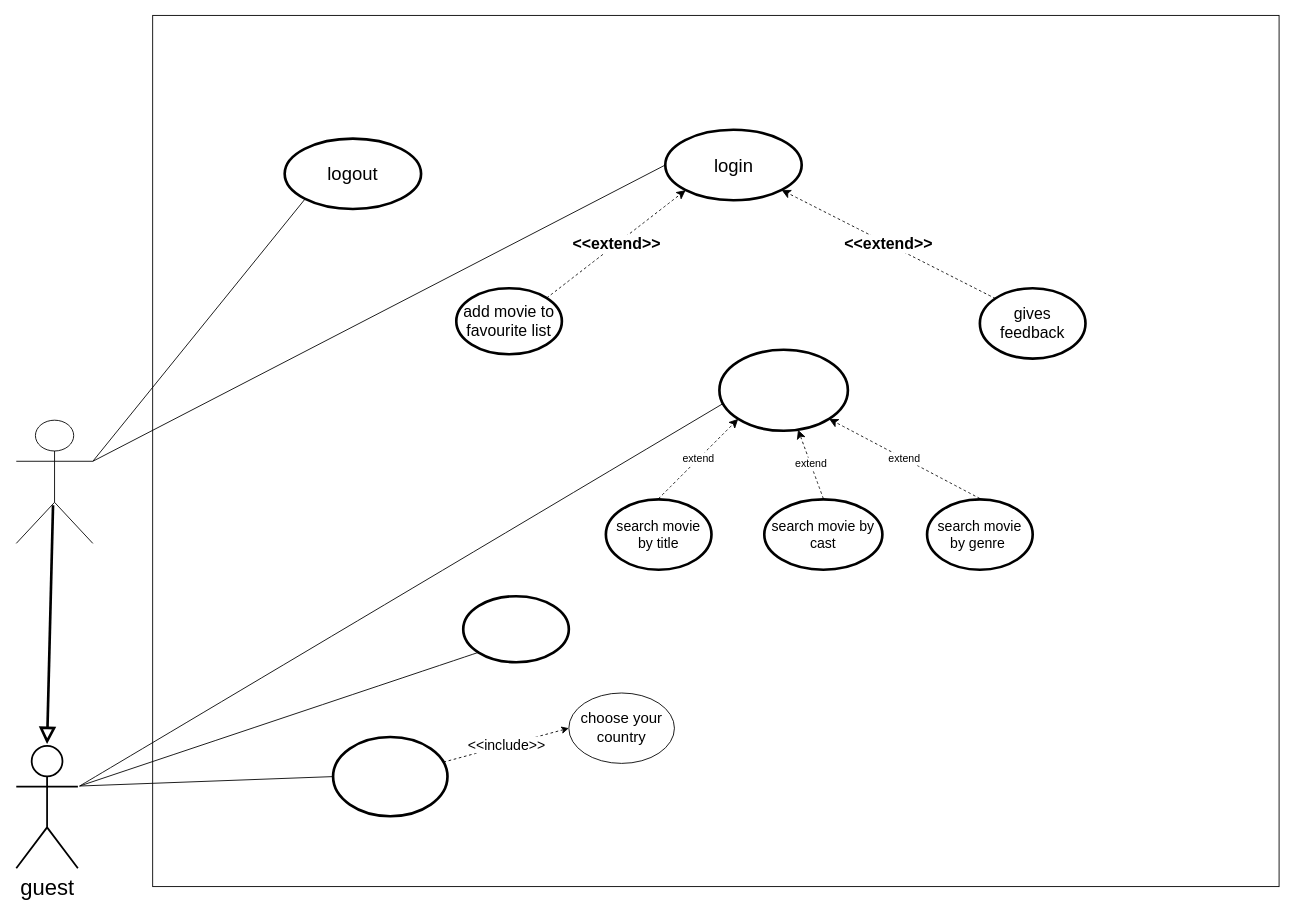
Some shapes in this 1294 by 916 pixel diagram are drawn without their labels. The shapes that lost their labels are listed below. From the top down, each one's centre as x and y in pixels, then its label:
At (x=783, y=390): "search a movie".
At (x=54, y=481): "customer".
At (x=515, y=628): "browse".
At (x=389, y=776): "register".
